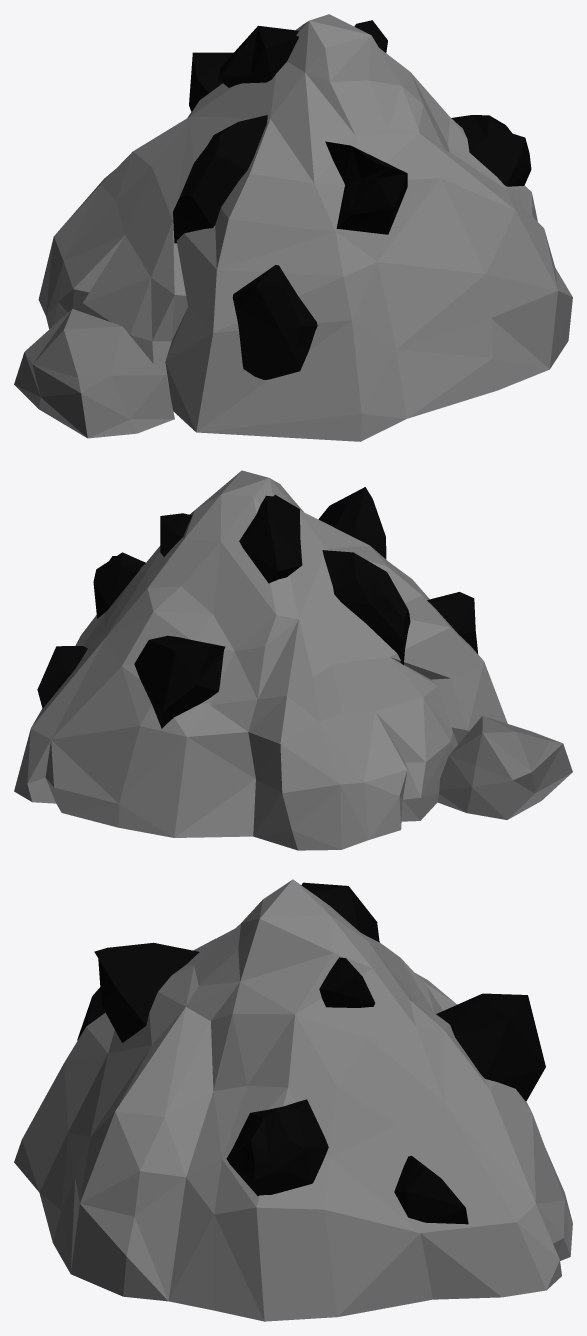
File: _stone_coal.fbx
3 views of the same model, one above another, from view 1: azimuth 30°, elevation 25°; view 2: azimuth 150°, elevation 25°; view 3: azimuth 270°, elevation 25° (orthographic). The views are drawn at different scales.
Parts seen in each view (by area): view 1: stone_coal; view 2: stone_coal; view 3: stone_coal.
Part boxes in pixels (bbox=[...]): stone_coal: bbox=[14, 14, 572, 441]; stone_coal: bbox=[14, 470, 572, 850]; stone_coal: bbox=[14, 879, 572, 1321].
Bounding box in the file's own units: 253 × 143 × 224.
